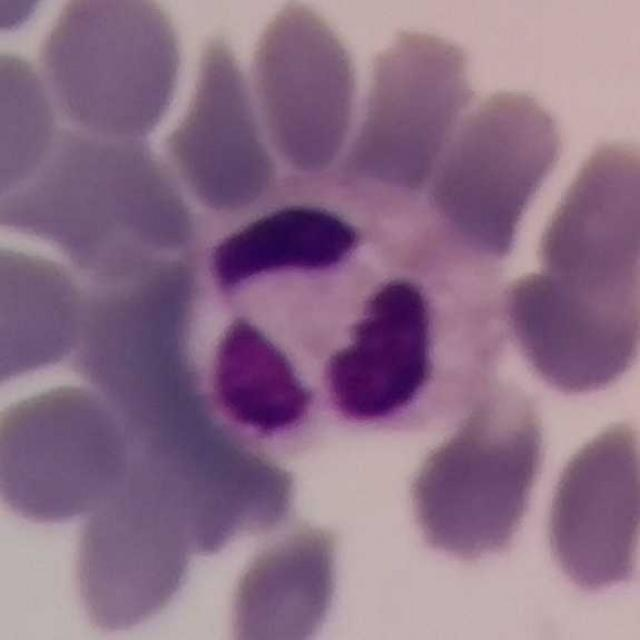Neutrophil: (178, 161, 510, 465)
RBC: (396, 377, 554, 572), (13, 120, 194, 281), (63, 456, 207, 640), (424, 81, 571, 255), (495, 223, 639, 400), (342, 22, 481, 199), (162, 32, 282, 218), (36, 0, 190, 141), (245, 0, 364, 177), (535, 410, 640, 604), (0, 378, 132, 531), (530, 129, 640, 295), (217, 515, 353, 640), (0, 236, 88, 395), (0, 43, 60, 205), (0, 0, 59, 43)
